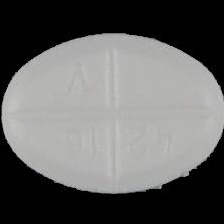55045-1259: (0, 0, 224, 224)
